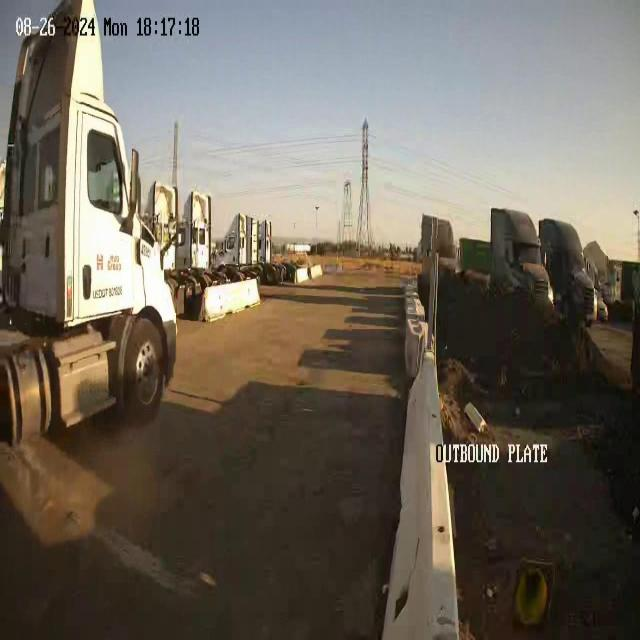TRUCK_IN: (1, 1, 179, 446)
